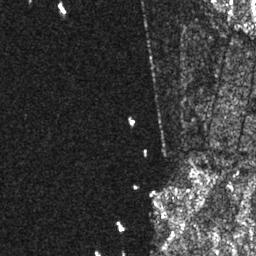ship: (57, 3, 70, 15), (114, 221, 127, 233), (127, 116, 135, 128), (143, 149, 149, 157)
